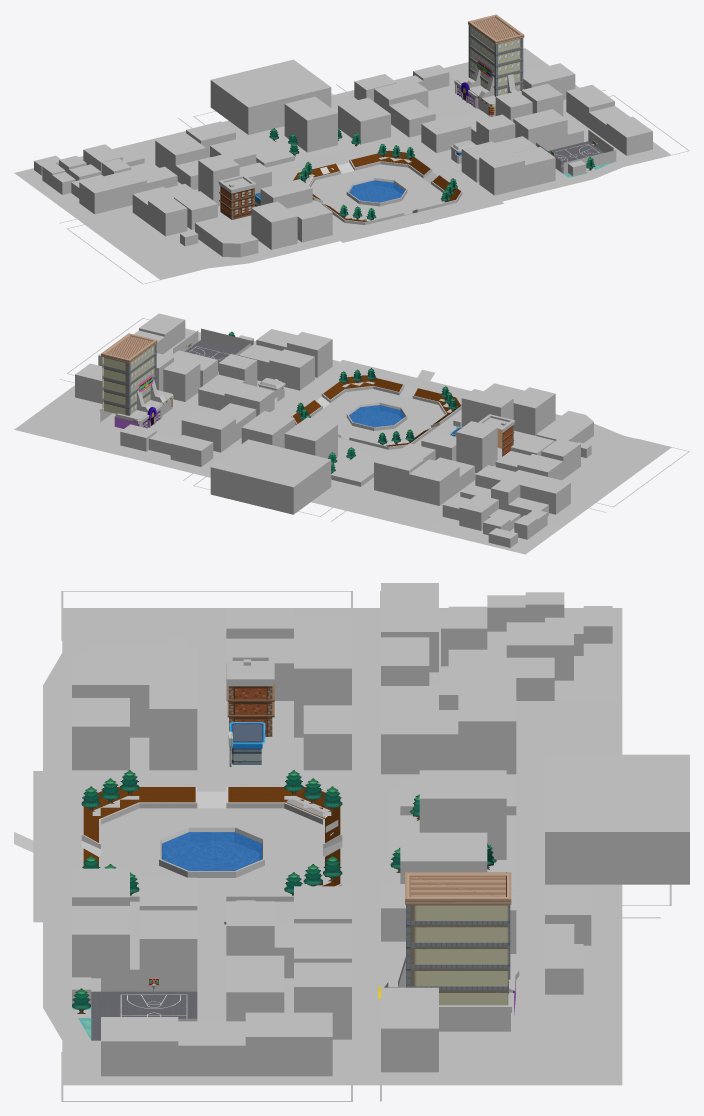
The model's file is eSouthSurldab.obj.
The picture shows the model from 3 angles, top to bottom: view 1: azimuth 30°, elevation 25°; view 2: azimuth 150°, elevation 25°; view 3: azimuth 270°, elevation 25°; orthographic projection. The views are drawn at different scales.
Parts seen in each view (by area): view 1: BuildingPlaceholders_Cube, CentralPlaza_Grid.001, SWBlock_Grid.002, PCasino_PCasino_polygon4.004, SEBlock_Grid.003, NEBlock_Grid.006, BasketballCourt_Concrete_Plane, NWBlock_Grid.005, NorthPlaza_Grid.004, Building.001_polygon1.007, FountainBowl_Grid.007, Tree.002_Plane.001 (+4 smaller); view 2: BuildingPlaceholders_Cube, CentralPlaza_Grid.001, NEBlock_Grid.006, SWBlock_Grid.002, NWBlock_Grid.005, PCasino_PCasino_polygon4.004, NorthPlaza_Grid.004, BasketballCourt_Concrete_Plane, FountainBowl_Grid.007, Tree.002_Plane.001, SEBlock_Grid.003, FountainFlow!WATEY_Grid (+4 smaller); view 3: BuildingPlaceholders_Cube, CentralPlaza_Grid.001, SWBlock_Grid.002, NEBlock_Grid.006, SEBlock_Grid.003, PCasino_PCasino_polygon4.004, NWBlock_Grid.005, NorthPlaza_Grid.004, BasketballCourt_Concrete_Plane, FountainBowl_Grid.007, Tree.002_Plane.001, Building.001_polygon1.007 (+4 smaller).
Boxes of the visible parts, x1,y1,x2,y2 form: BuildingPlaceholders_Cube: (34, 59, 652, 257); CentralPlaza_Grid.001: (270, 136, 504, 242); SWBlock_Grid.002: (67, 190, 339, 284); PCasino_PCasino_polygon4.004: (468, 14, 524, 96); SEBlock_Grid.003: (414, 95, 689, 201); NEBlock_Grid.006: (336, 48, 605, 137); BasketballCourt_Concrete_Plane: (536, 130, 616, 173); NWBlock_Grid.005: (14, 118, 198, 223); NorthPlaza_Grid.004: (193, 92, 405, 169); Building.001_polygon1.007: (218, 175, 256, 219); FountainBowl_Grid.007: (346, 177, 407, 206); Tree.002_Plane.001: (297, 143, 457, 220); BuildingPlaceholders_Cube: (75, 313, 593, 547); CentralPlaza_Grid.001: (271, 360, 470, 457); NEBlock_Grid.006: (14, 379, 241, 480); SWBlock_Grid.002: (475, 414, 689, 507); NWBlock_Grid.005: (331, 480, 605, 554); PCasino_PCasino_polygon4.004: (101, 333, 157, 415); NorthPlaza_Grid.004: (193, 438, 373, 516); BasketballCourt_Concrete_Plane: (173, 328, 253, 371); FountainBowl_Grid.007: (346, 402, 407, 430); Tree.002_Plane.001: (296, 368, 457, 445); SEBlock_Grid.003: (67, 318, 339, 413); FountainFlow!WATEY_Grid: (349, 405, 404, 427); BuildingPlaceholders_Cube: (72, 583, 689, 1076); CentralPlaza_Grid.001: (14, 771, 390, 922); SWBlock_Grid.002: (43, 591, 380, 771); NEBlock_Grid.006: (380, 917, 661, 1101); SEBlock_Grid.003: (43, 921, 380, 1101); PCasino_PCasino_polygon4.004: (405, 872, 511, 1005); NWBlock_Grid.005: (380, 591, 622, 775); NorthPlaza_Grid.004: (389, 775, 671, 917); BasketballCourt_Concrete_Plane: (91, 969, 197, 1040); FountainBowl_Grid.007: (159, 826, 264, 877); Tree.002_Plane.001: (81, 770, 342, 895); Building.001_polygon1.007: (226, 655, 274, 736).
Size of the model in its own units: 125 by 18 by 70.
